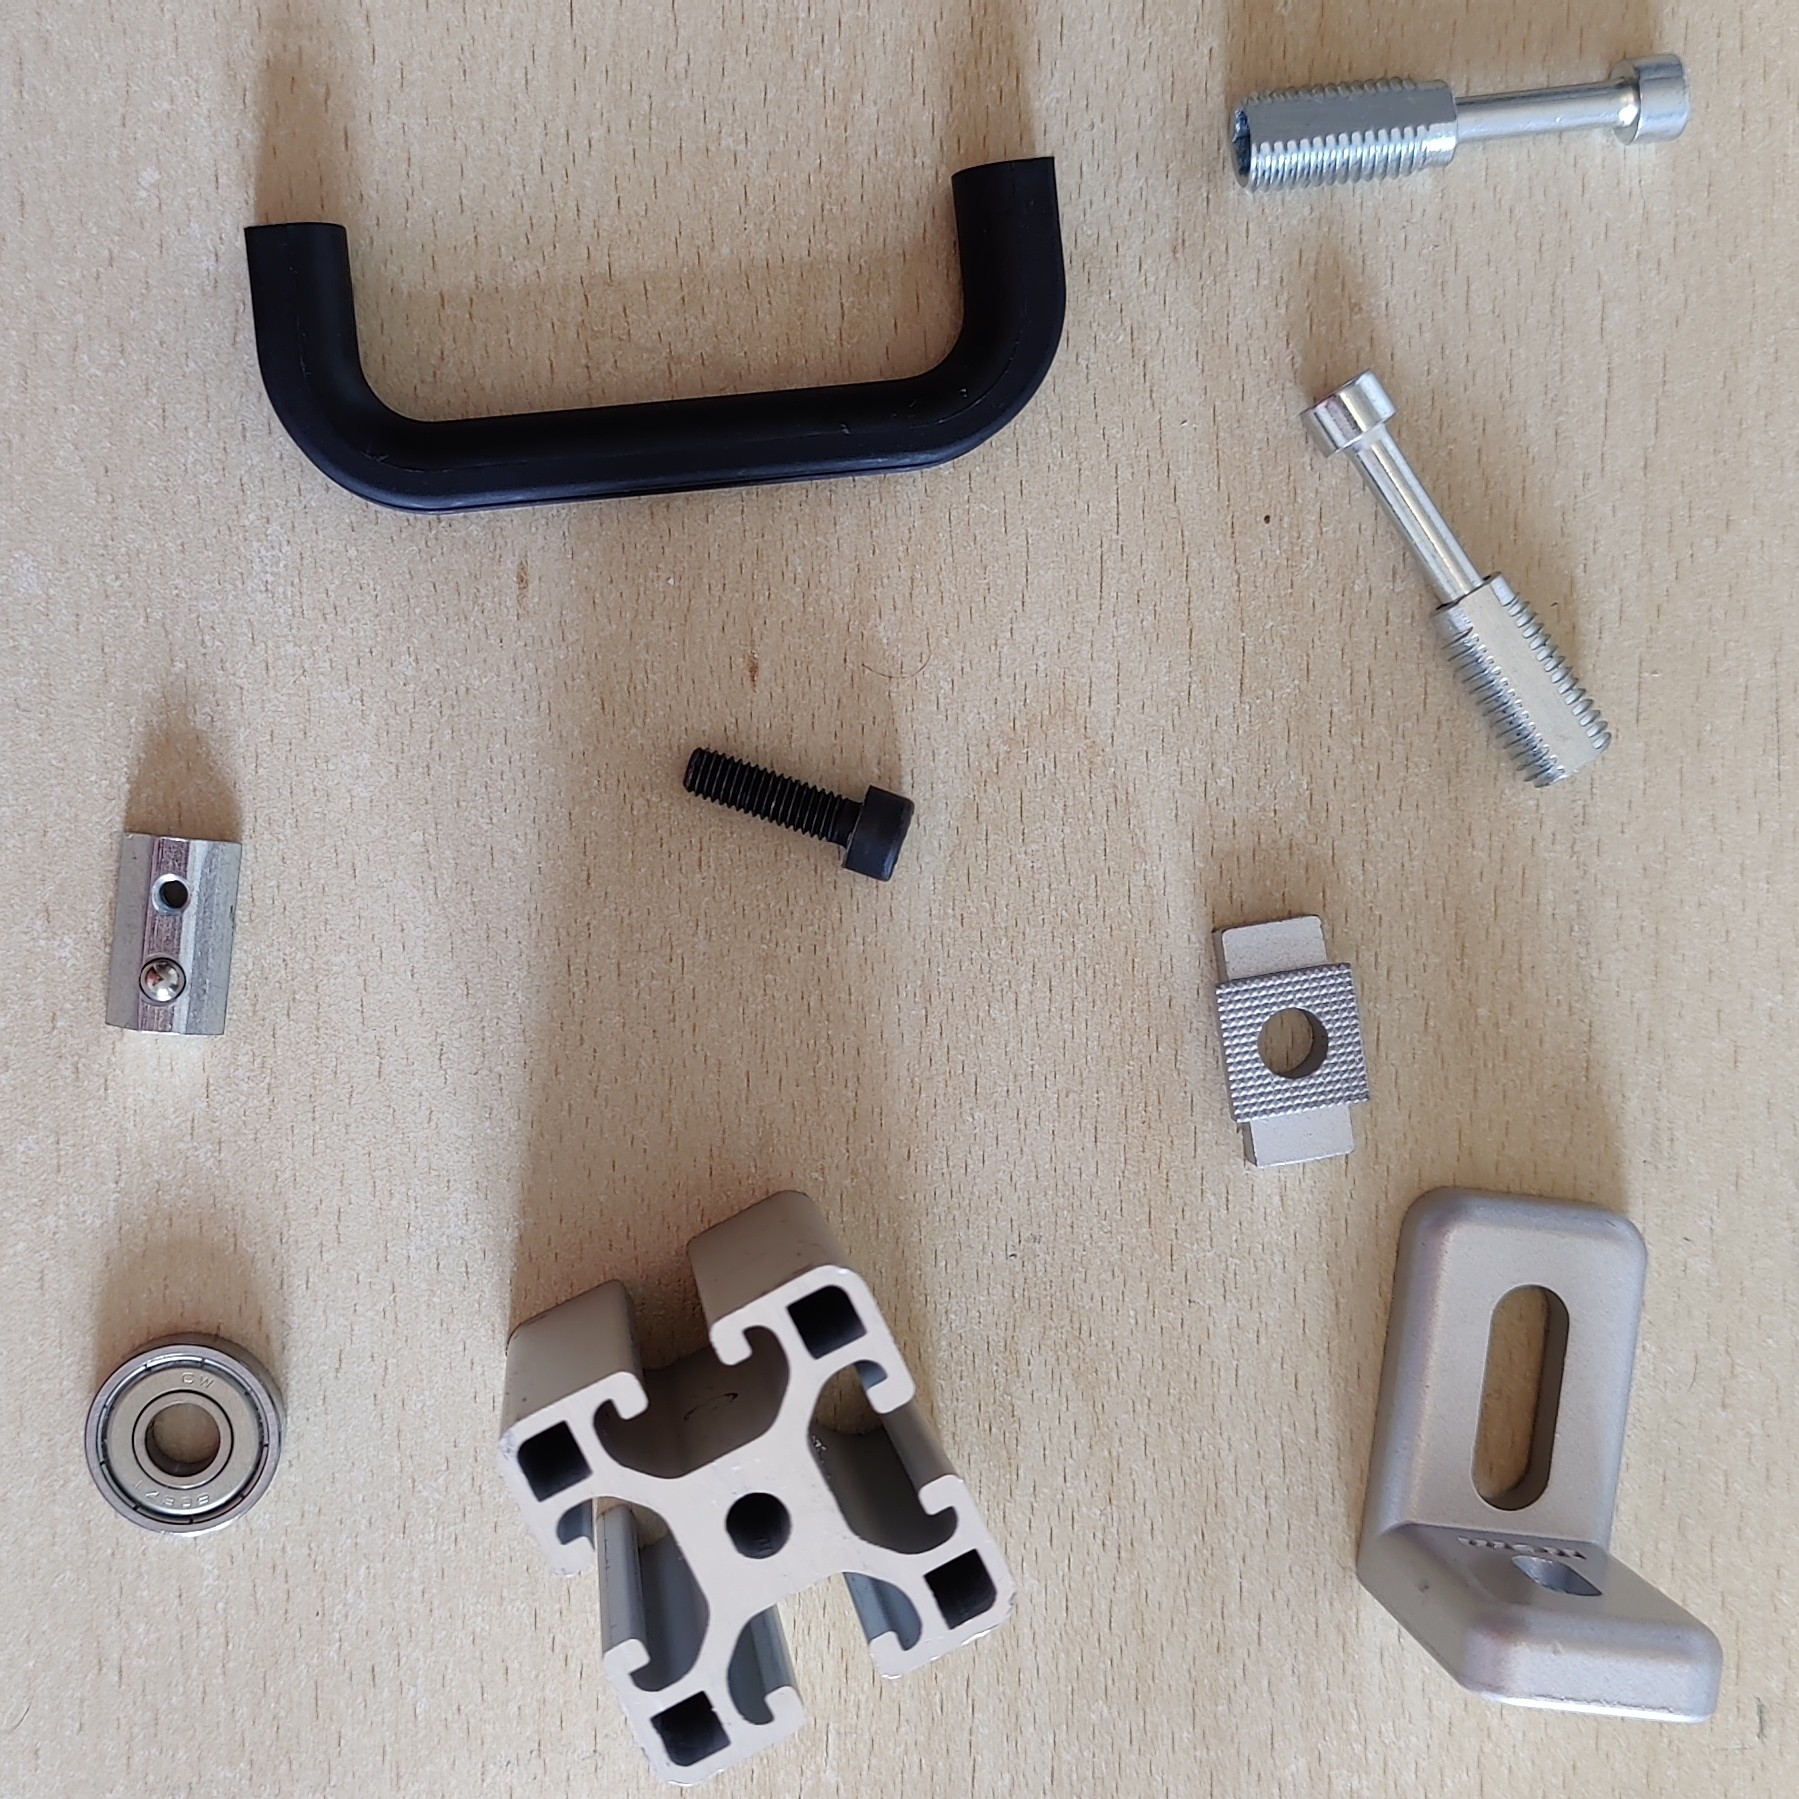Aluminium Extension: (496, 1185, 1015, 1787)
Ball Bearing: (84, 1329, 288, 1540)
Multiwinkel: (1351, 1183, 1727, 1727)
Pull Handle: (242, 153, 1069, 516)
Shoulder Socket Head Cap Screw: (1298, 369, 1614, 791), (1226, 53, 1690, 203)
Socket Head Cap Screw: (680, 741, 919, 885)
T Nut Square: (1208, 909, 1374, 1170)
T Spring Nut: (99, 825, 242, 1038)
